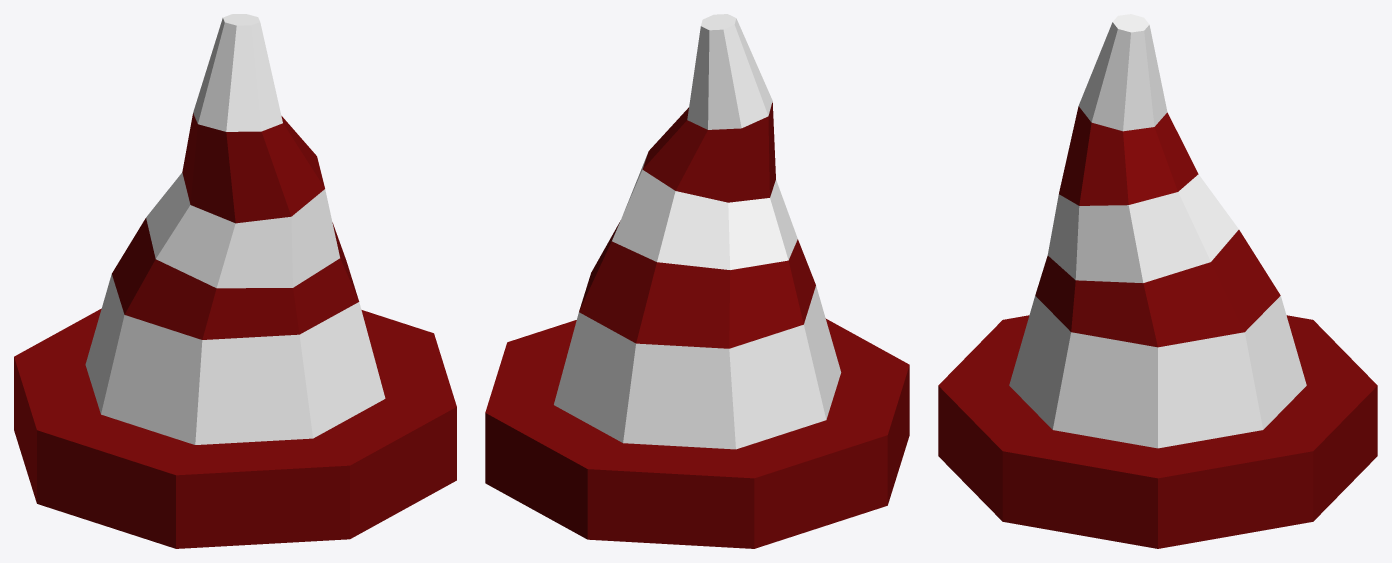
File: traffic_Cone_Old.fbx
3 views of the same model, side by side, from view 1: azimuth 30°, elevation 25°; view 2: azimuth 150°, elevation 25°; view 3: azimuth 270°, elevation 25° (orthographic). The views are drawn at different scales.
Visible parts, largest first — view 1: traffic_Cone_Old; view 2: traffic_Cone_Old; view 3: traffic_Cone_Old.
Part boxes in pixels (left/top/right/bottom): traffic_Cone_Old: left=14, top=14, right=456, bottom=548; traffic_Cone_Old: left=485, top=14, right=909, bottom=548; traffic_Cone_Old: left=938, top=14, right=1377, bottom=548.
Size of the model in its own units: 69.68 by 75.43 by 69.68.
